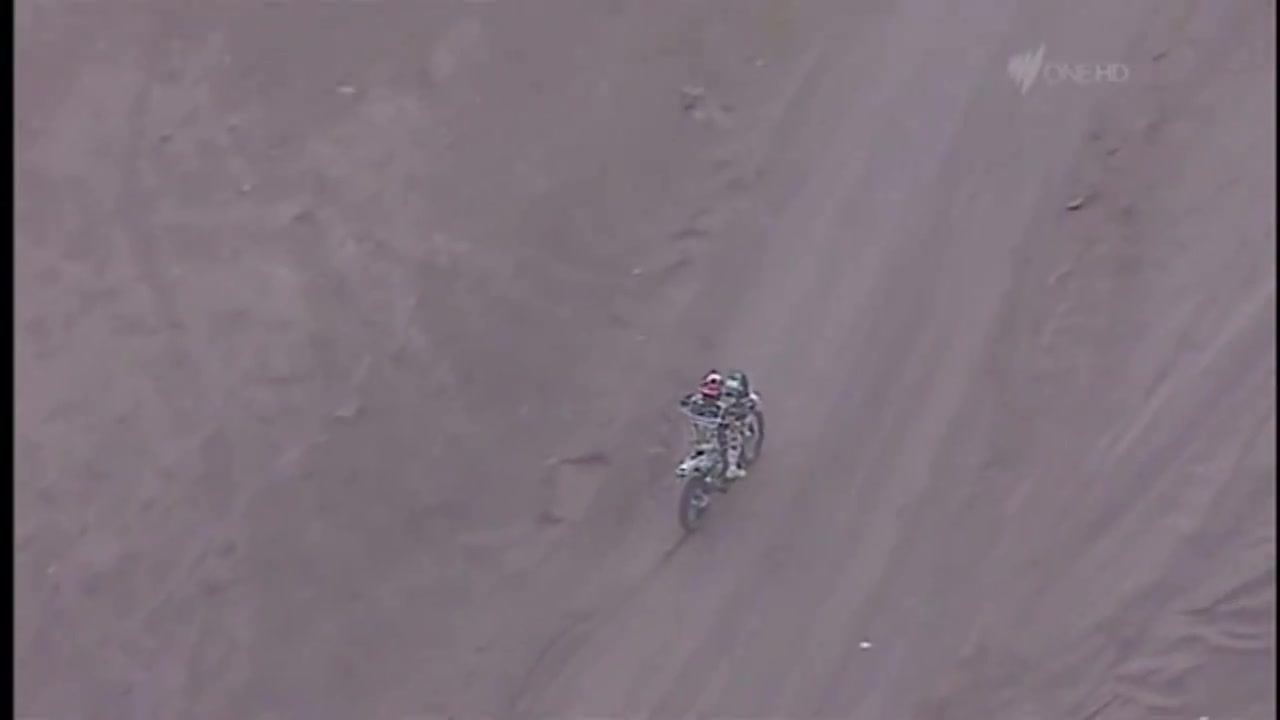motorbike: (676, 378, 767, 535)
